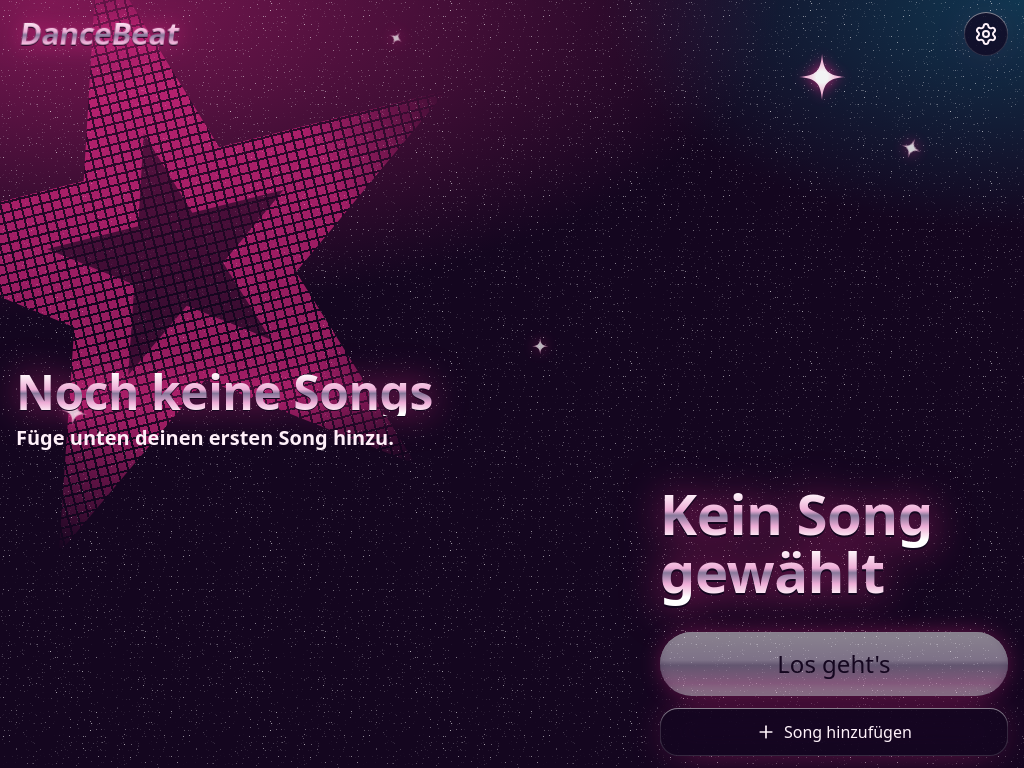
Test case: Song library › opens the add-song dialog
Click the button "Song hinzufügen" at (834, 732), box [660,708,1008,756]
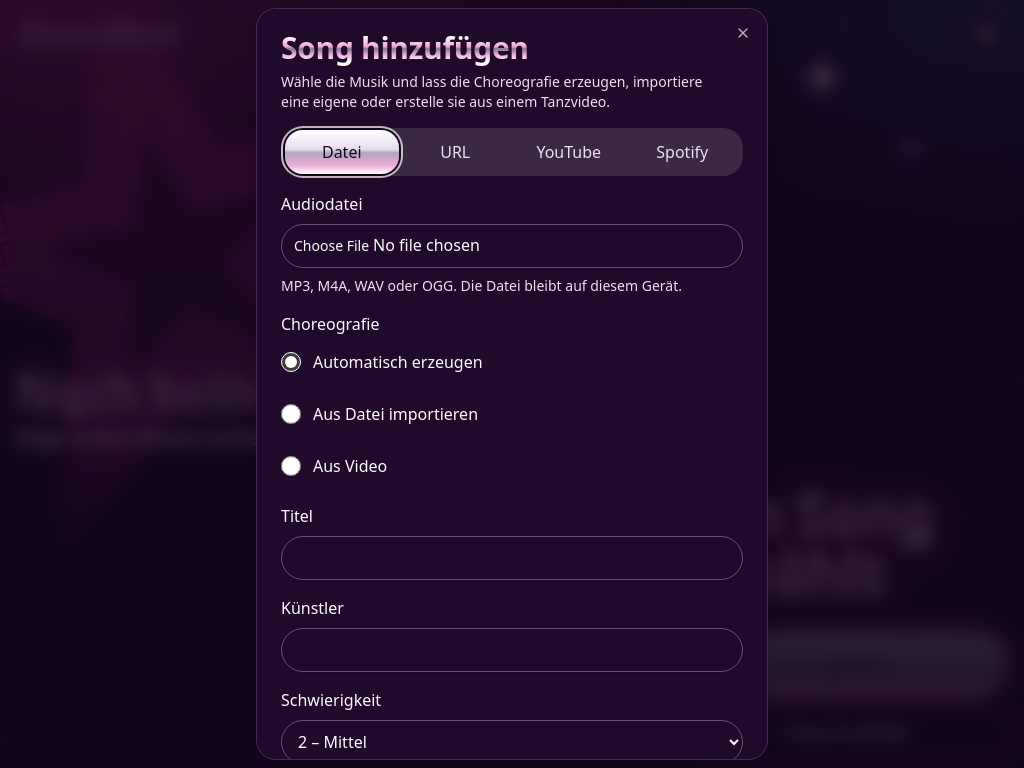
Now the dialog "Song hinzufügen" is shown, box [256,8,768,760]
